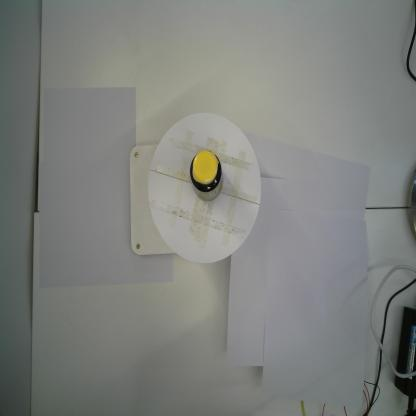Seasoner: (190, 149, 224, 202)
